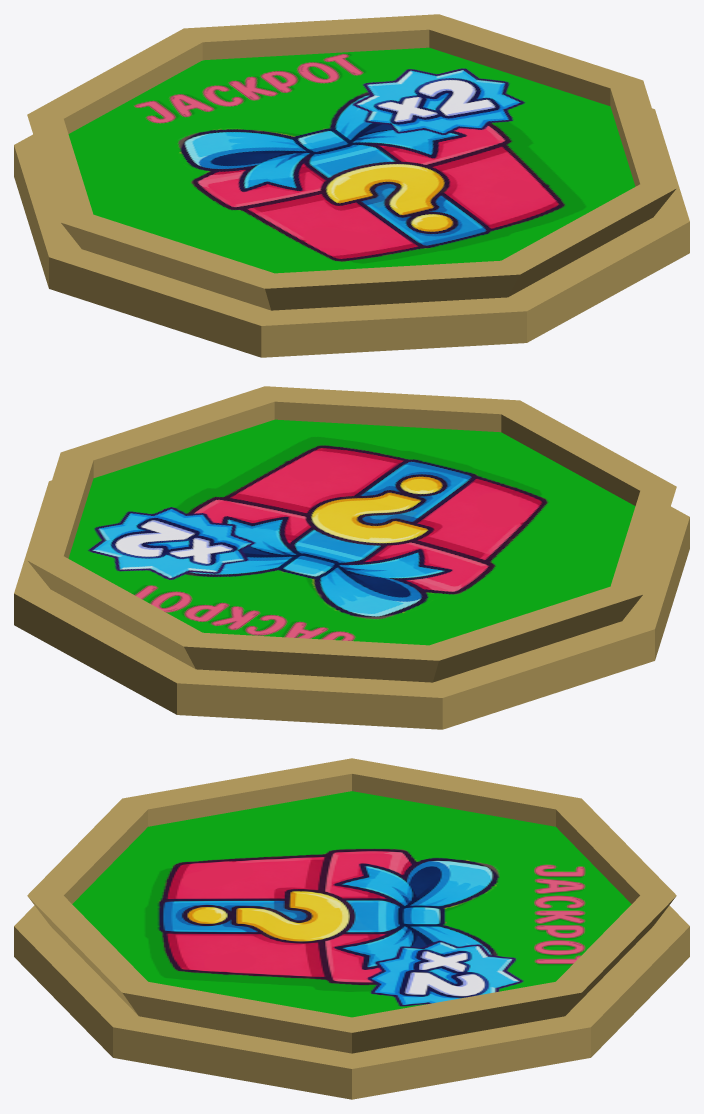
File: tile3 cdparty.fbx
The picture shows the model from 3 angles, top to bottom: view 1: azimuth 30°, elevation 25°; view 2: azimuth 150°, elevation 25°; view 3: azimuth 270°, elevation 25°; orthographic projection. The views are drawn at different scales.
Visible parts, largest first — view 1: pCylinder6; view 2: pCylinder6; view 3: pCylinder6.
Part boxes in pixels (<box>): pCylinder6: <box>14,14,689,357</box>; pCylinder6: <box>14,386,689,729</box>; pCylinder6: <box>14,758,689,1099</box>.
Bounding box in the file's own units: 2 × 0.2 × 2.
Materials: 2 (1 with a texture image).
